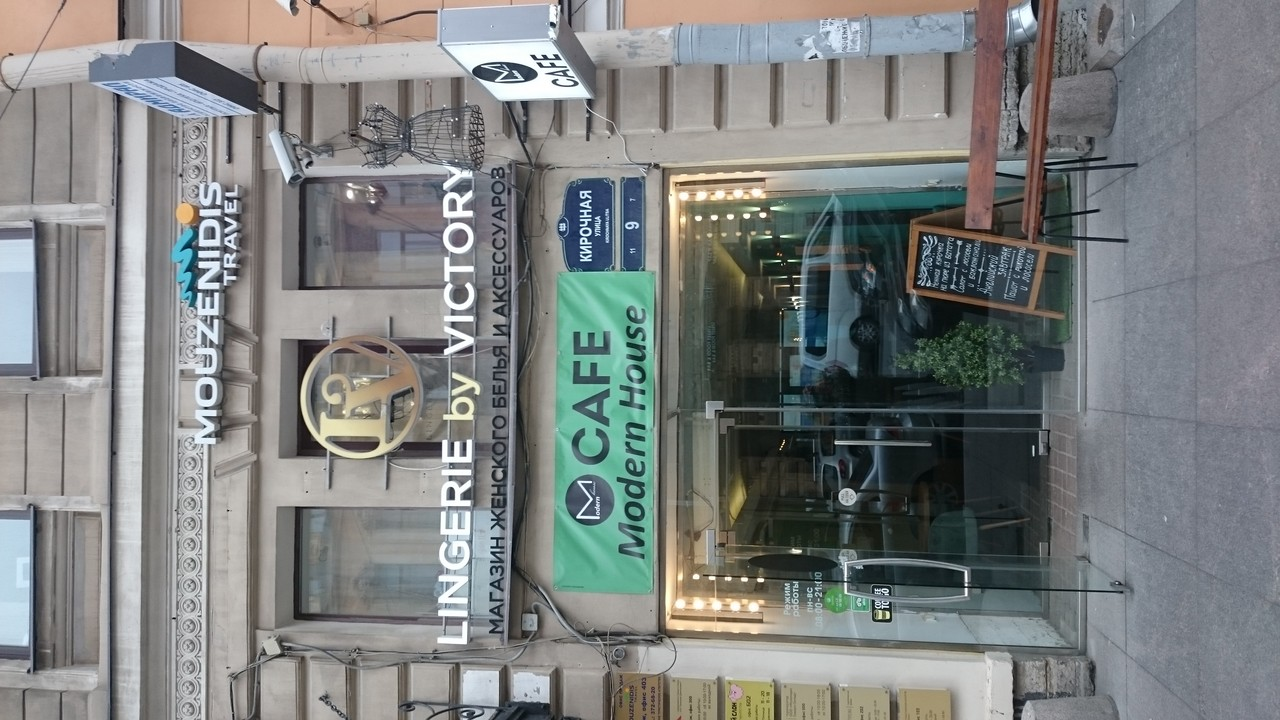cantilever: (90, 40, 282, 162), (437, 7, 600, 141)
signboard: (440, 162, 520, 642), (175, 180, 240, 447)
window: (297, 172, 444, 287), (295, 509, 441, 617)
